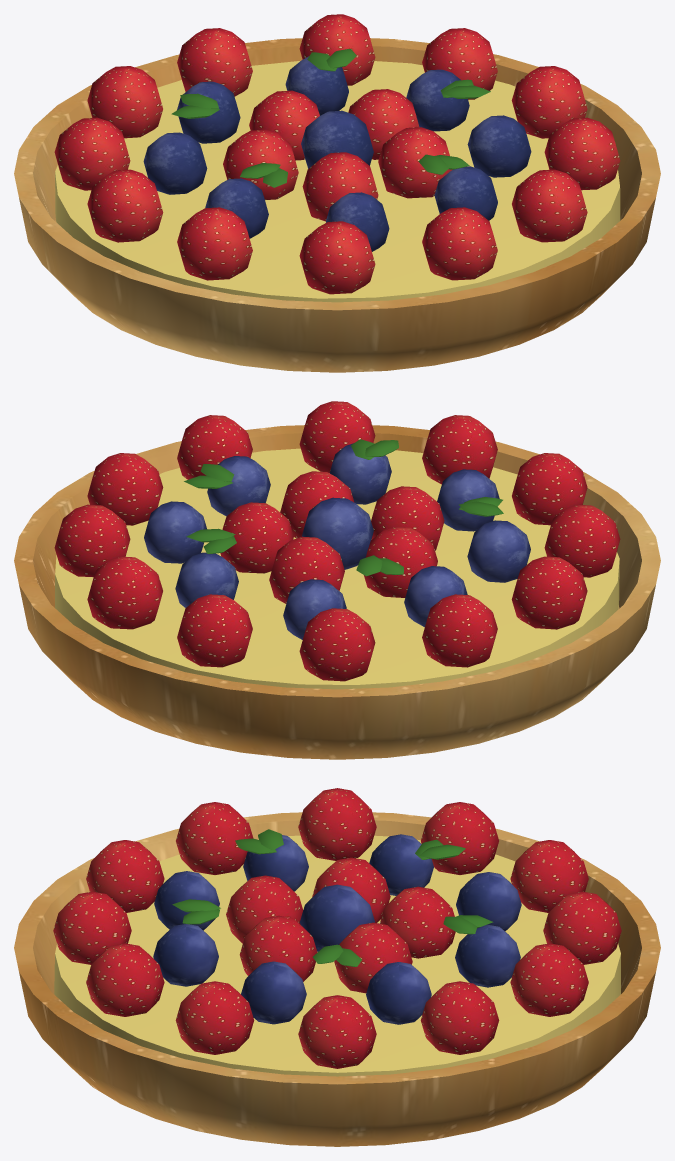
Rendered from dessert_fruit_tart.glb.
3 views of the same model, one above another, from view 1: azimuth 30°, elevation 25°; view 2: azimuth 150°, elevation 25°; view 3: azimuth 270°, elevation 25° (orthographic).
Visible parts, largest first — view 1: dessert_fruit_tart; view 2: dessert_fruit_tart; view 3: dessert_fruit_tart.
Boxes of the visible parts, left/top/right/bottom form: dessert_fruit_tart: left=14, top=14, right=660, bottom=372; dessert_fruit_tart: left=14, top=401, right=660, bottom=759; dessert_fruit_tart: left=14, top=788, right=660, bottom=1146.
Size of the model in its own units: 0.206 by 0.049 by 0.206.
Materials: 5 (3 with a texture image).
